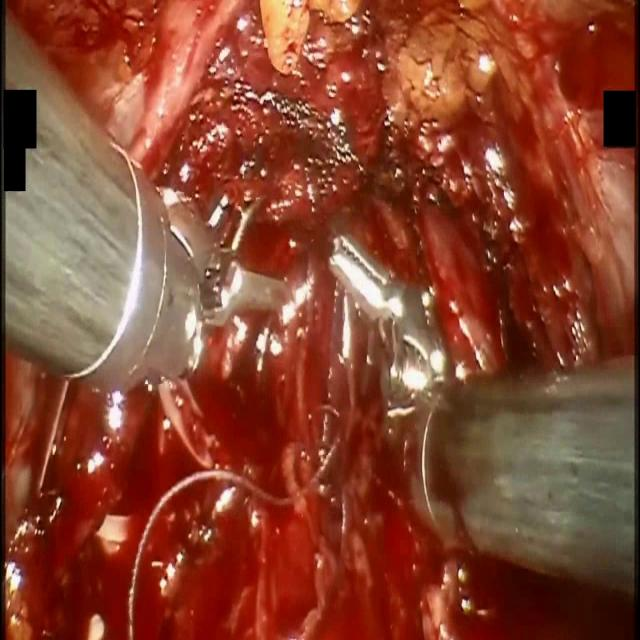surgical-area: (0, 0, 640, 639)
surgical-tool: (3, 6, 294, 397), (334, 234, 639, 606)
